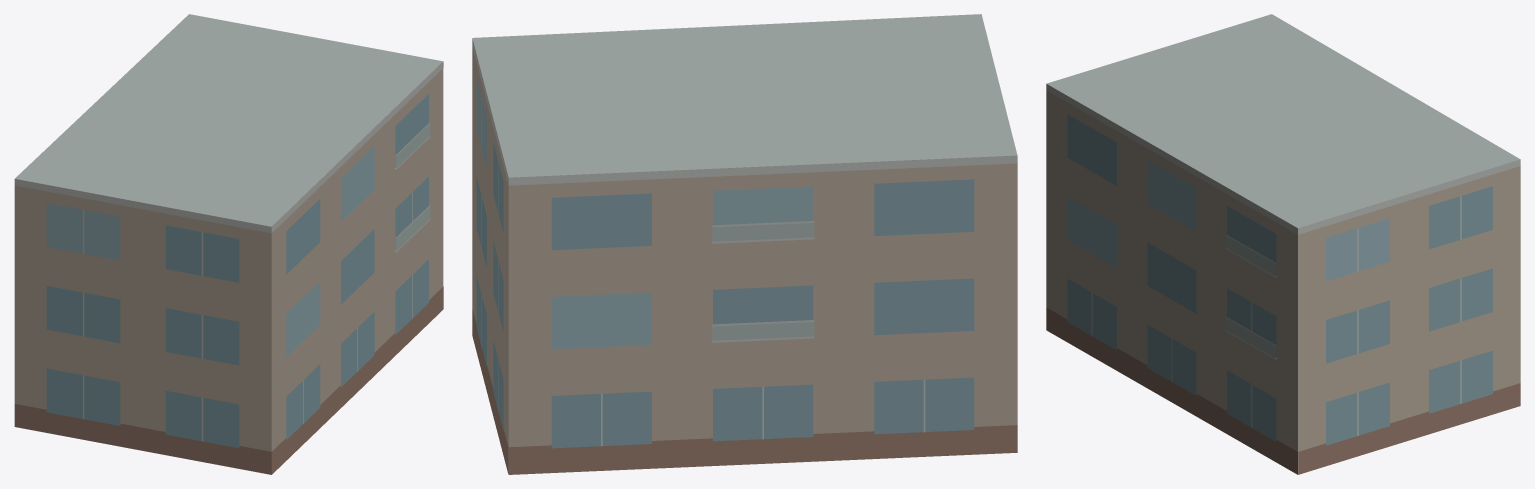
File: survey-upis-32693659.glb
3 views of the same model, side by side, from view 1: azimuth 30°, elevation 25°; view 2: azimuth 150°, elevation 25°; view 3: azimuth 270°, elevation 25° (orthographic). The views are drawn at different scales.
Visible parts, largest first — view 1: survey-upis-32693659.tmp; view 2: survey-upis-32693659.tmp; view 3: survey-upis-32693659.tmp.
Part boxes in pixels (x1=…): survey-upis-32693659.tmp: x1=14, y1=14, x2=443, y2=474; survey-upis-32693659.tmp: x1=472, y1=14, x2=1017, y2=474; survey-upis-32693659.tmp: x1=1046, y1=14, x2=1520, y2=474.
Size of the model in its own units: 17.07 by 9.15 by 15.96.
